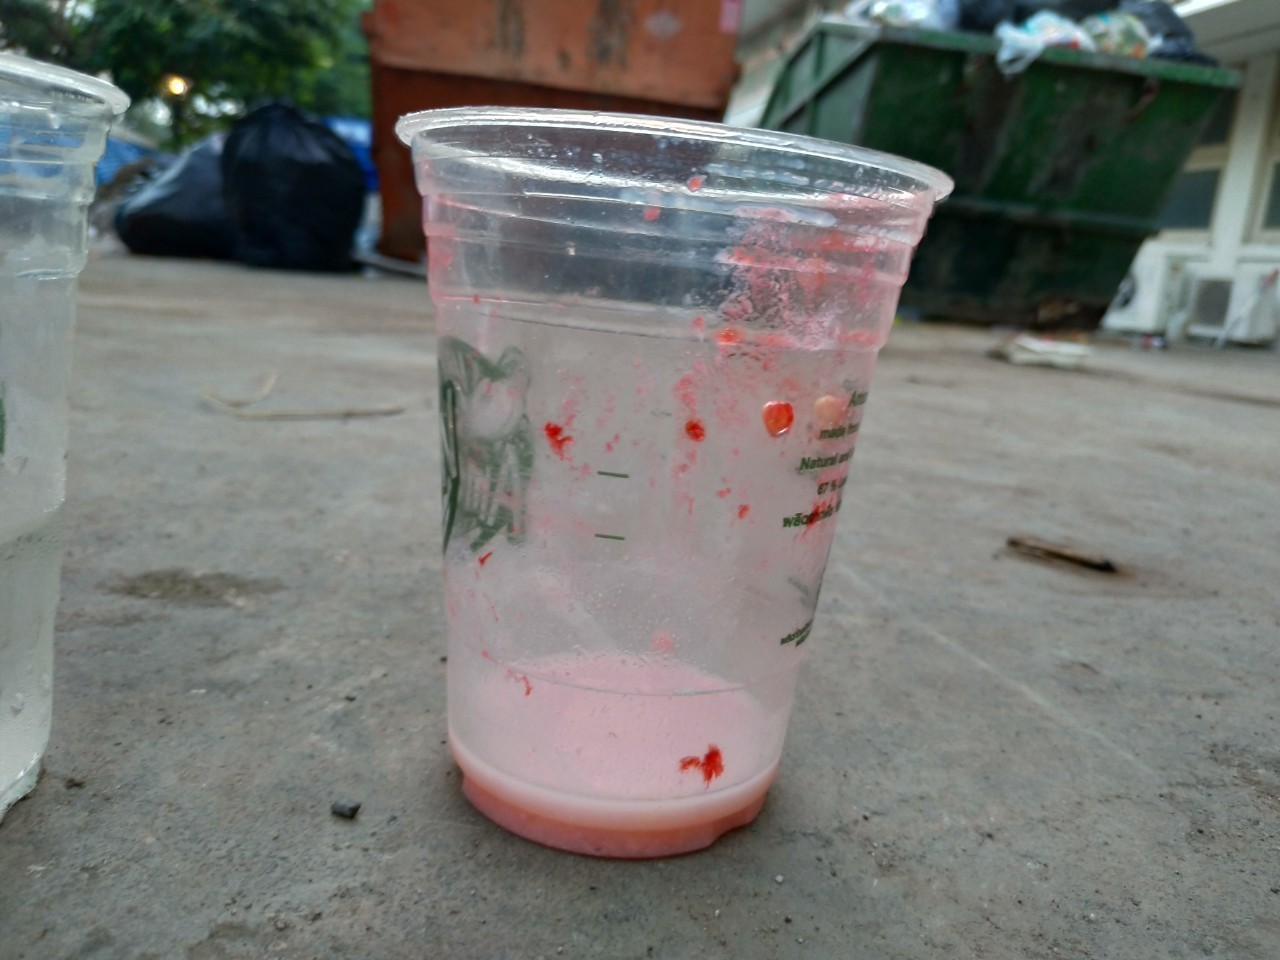PlasticCup: (383, 102, 954, 855)
